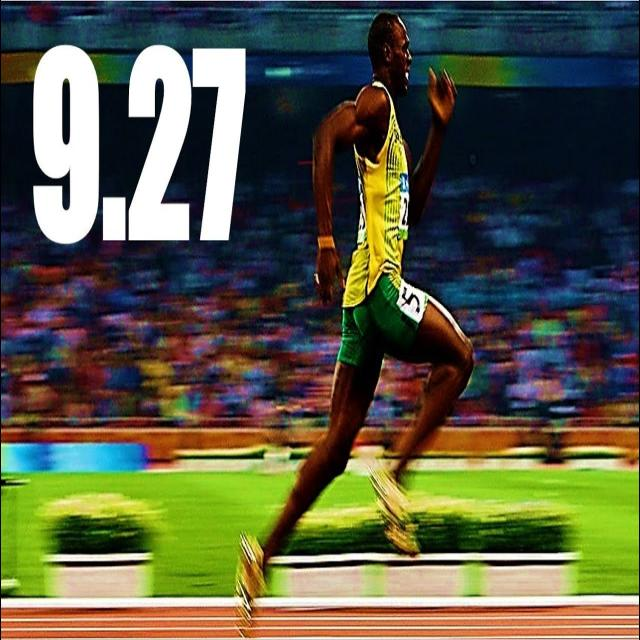running: (234, 11, 478, 630)
